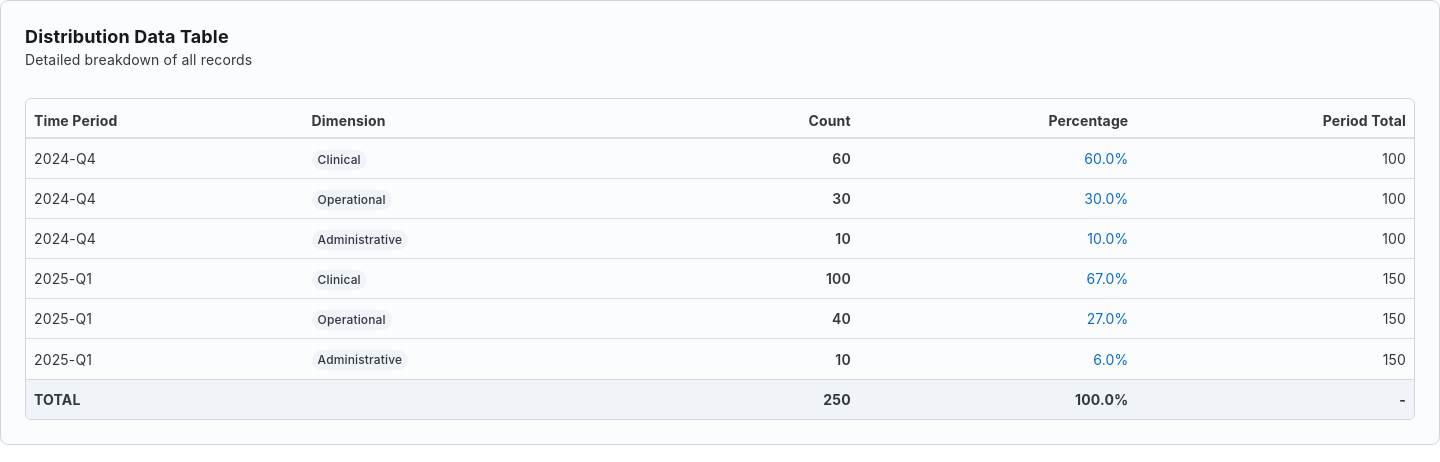
it: DistributionTableView › sort functionality works
This screenshot has width=1440, height=462.
Note: Click on Count column header to sort
Click the column heading "Count" at (720, 119), box [581,99,859,139]
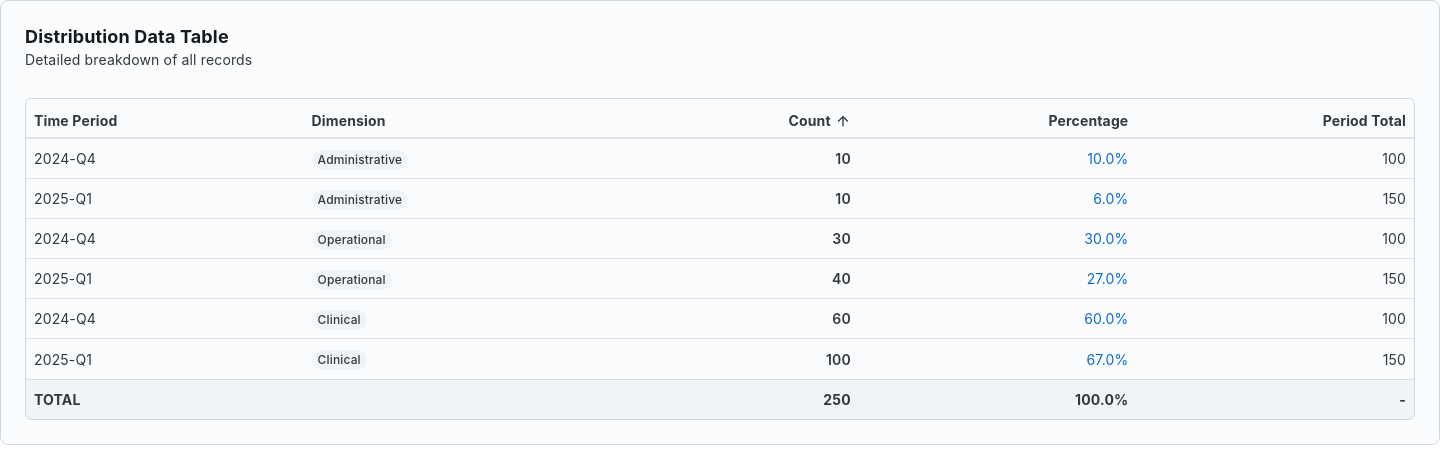
Expected: the text "Clinical" in the row of "60.0" is shown, [318,312,361,327]
